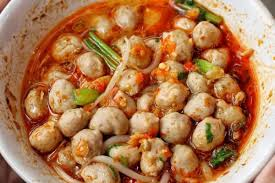bakso: (26, 13, 247, 172)
